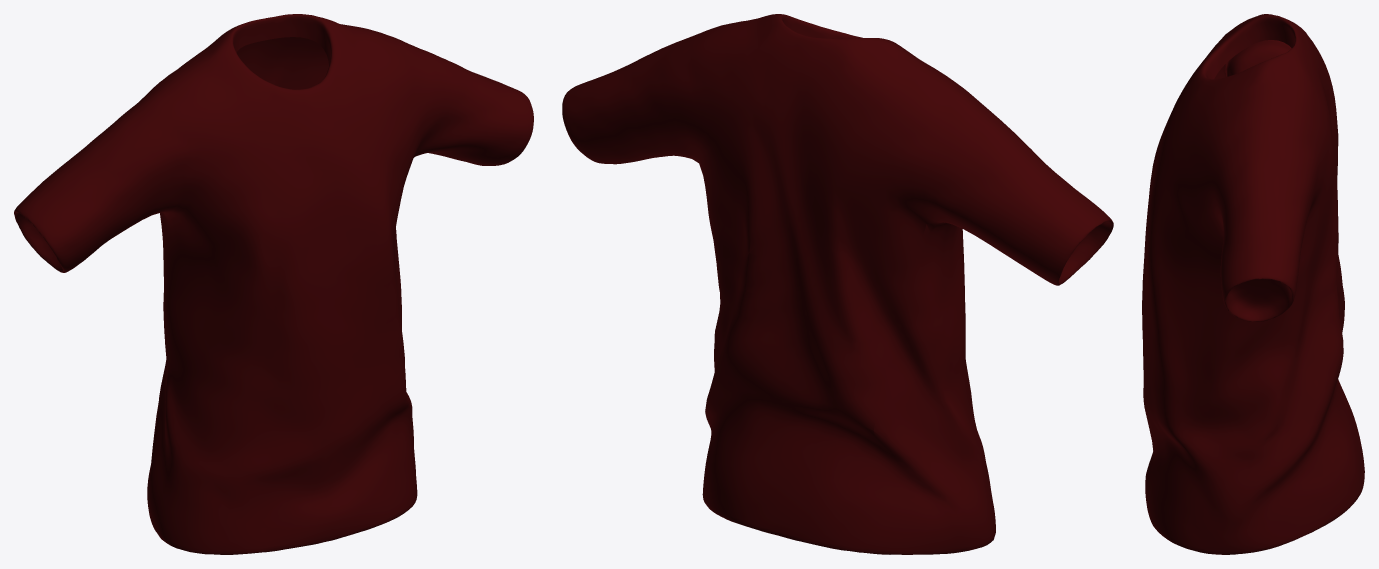
Rendered from shirt_red.obj.
The picture shows the model from 3 angles, left to right: view 1: azimuth 30°, elevation 25°; view 2: azimuth 150°, elevation 25°; view 3: azimuth 270°, elevation 25°; orthographic projection. The views are drawn at different scales.
Parts seen in each view (by area): view 1: 22_GOREPORT_1_20_30.009; view 2: 22_GOREPORT_1_20_30.009; view 3: 22_GOREPORT_1_20_30.009.
Part boxes in pixels (<box>): 22_GOREPORT_1_20_30.009: <box>14,14,533,554</box>; 22_GOREPORT_1_20_30.009: <box>562,14,1113,554</box>; 22_GOREPORT_1_20_30.009: <box>1142,14,1364,554</box>.
Bounding box in the file's own units: 0.8826 × 0.7952 × 0.3428.
